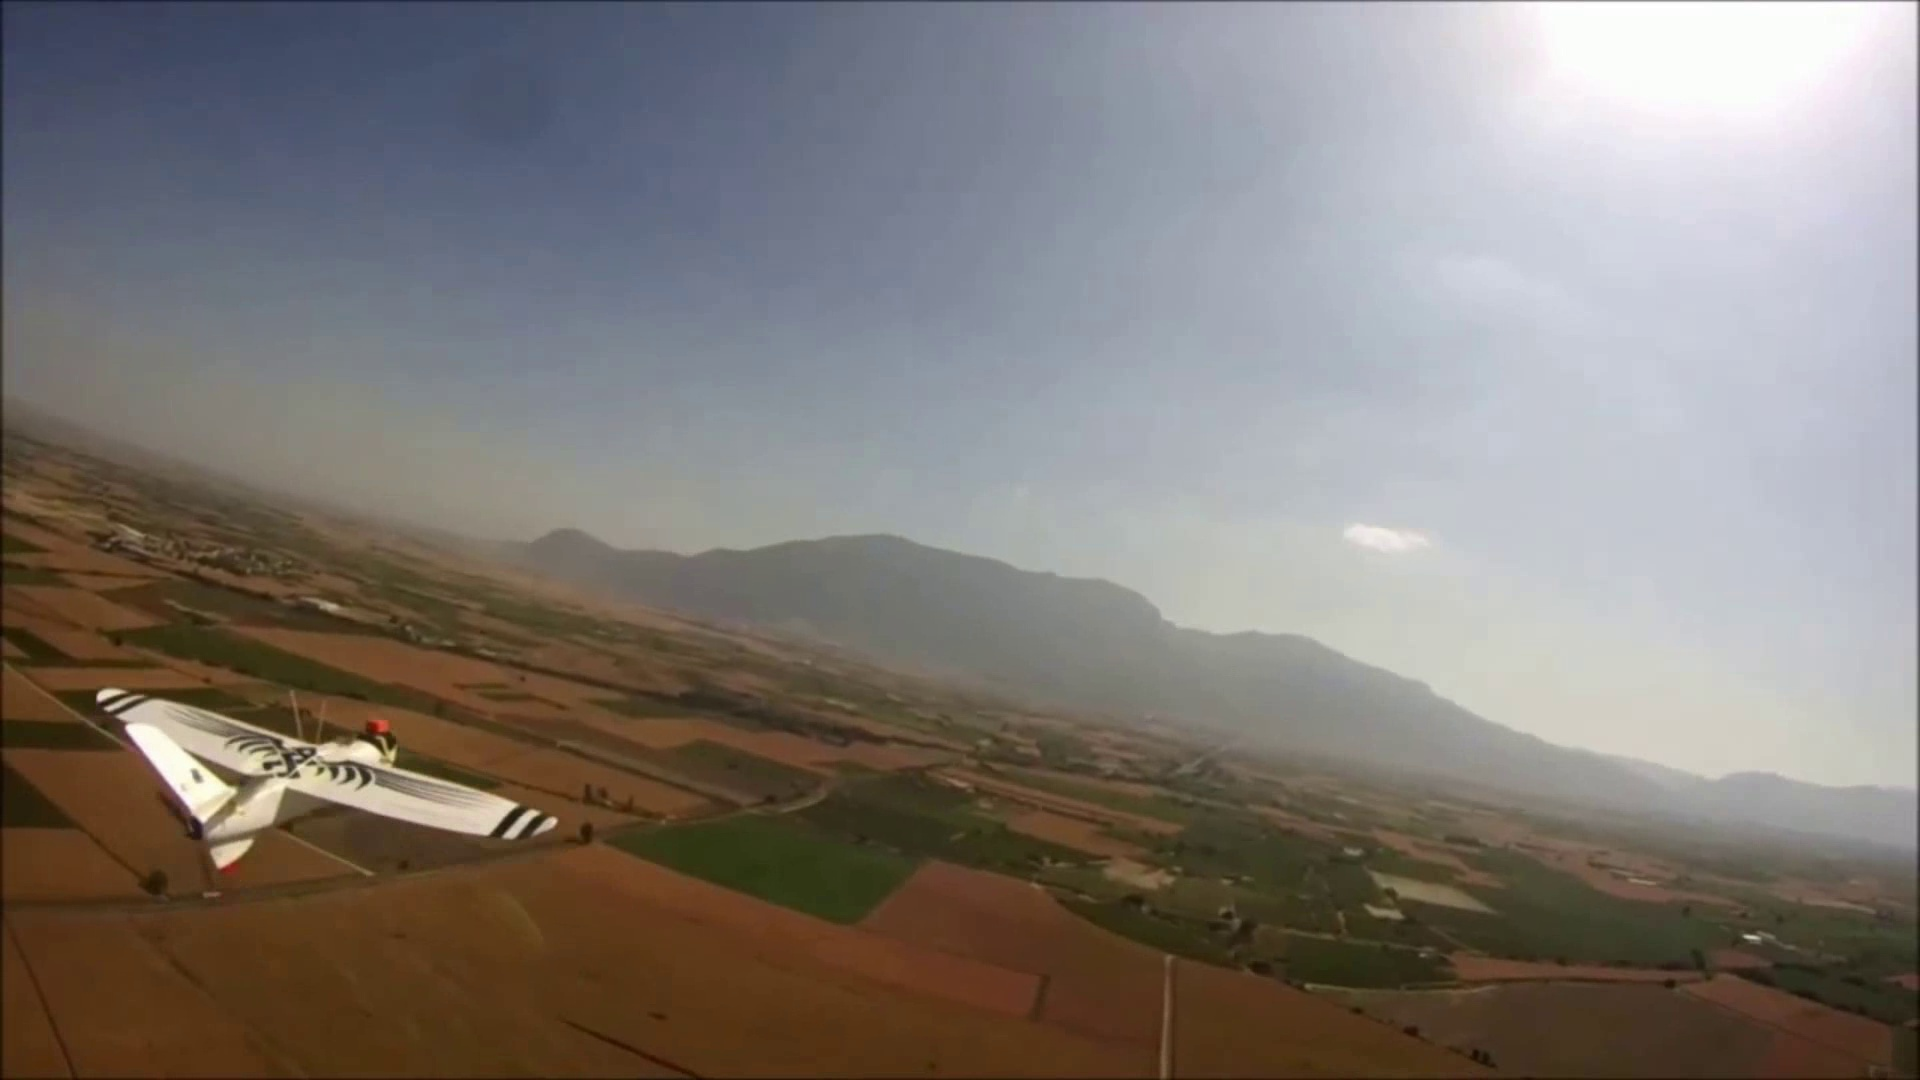airplane: (4, 659, 553, 897)
